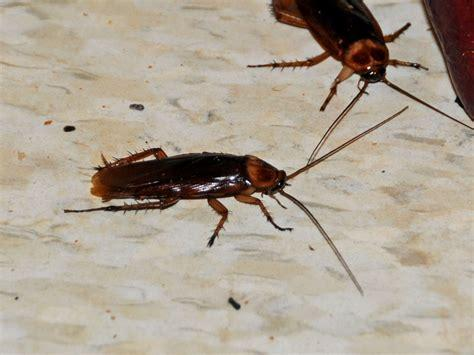cockroach: (77, 142, 296, 232), (293, 0, 402, 100)
